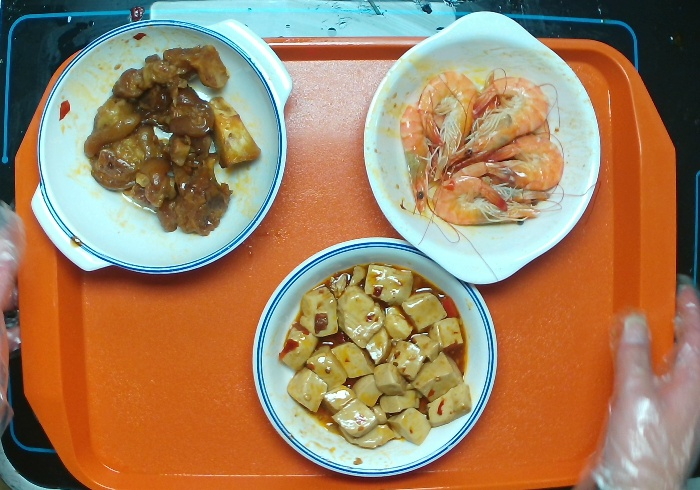HZYJPL-Dai_Er_Bai_Yuan_Wan: (361, 7, 604, 285)
HZYJPL-Lan_Bian_Dai_Er_Wan: (27, 13, 293, 277)
HZYJPL-Lan_Bian_Yuan_Die: (250, 232, 497, 479)
